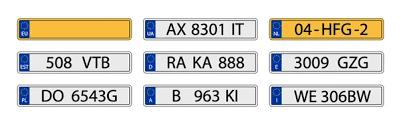0: (294, 23, 303, 36), (55, 56, 64, 69), (209, 23, 217, 36), (312, 56, 320, 69), (303, 56, 311, 69), (330, 90, 338, 103)
1: (218, 23, 225, 36)
2: (359, 23, 368, 36)
3: (98, 90, 106, 103), (321, 90, 329, 103), (200, 23, 208, 35), (294, 57, 302, 69), (212, 89, 219, 102)
4: (89, 89, 98, 103), (304, 23, 312, 36)
5: (45, 56, 55, 69), (80, 89, 89, 103)
6: (338, 90, 348, 103), (203, 89, 212, 103), (71, 90, 80, 102)
8: (191, 23, 200, 36), (218, 56, 227, 69), (236, 56, 245, 69), (64, 56, 72, 69)
9: (320, 56, 329, 69), (194, 90, 203, 102)
A: (165, 23, 177, 35), (201, 56, 213, 68), (176, 56, 186, 69)
B: (101, 56, 110, 69), (172, 89, 181, 102), (347, 90, 356, 103)
D: (41, 89, 53, 102)
E: (309, 90, 317, 103)
F: (333, 23, 340, 36)
G: (341, 23, 352, 36), (358, 56, 369, 69), (337, 56, 348, 69), (107, 89, 118, 102)
H: (321, 23, 332, 36)
I: (231, 22, 235, 36), (235, 89, 238, 102)
K: (193, 55, 202, 69), (226, 89, 235, 102)
O: (52, 89, 64, 102)
R: (167, 56, 176, 69)
T: (92, 56, 101, 69), (235, 23, 244, 35)
V: (81, 55, 92, 69)
W: (293, 89, 309, 103), (356, 90, 371, 103)
X: (177, 23, 187, 36)
Z: (348, 56, 358, 69)
